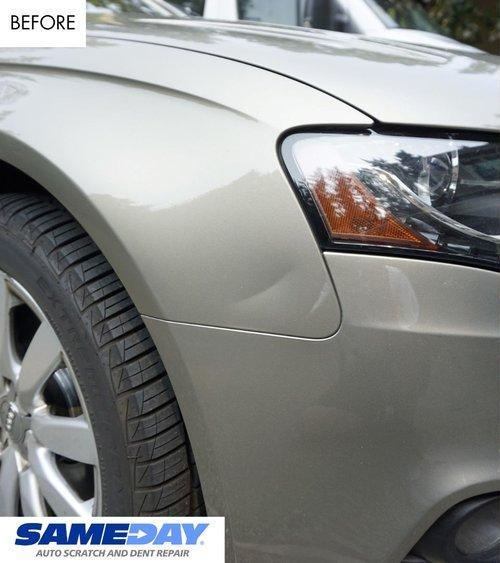dent: (163, 221, 347, 358)
